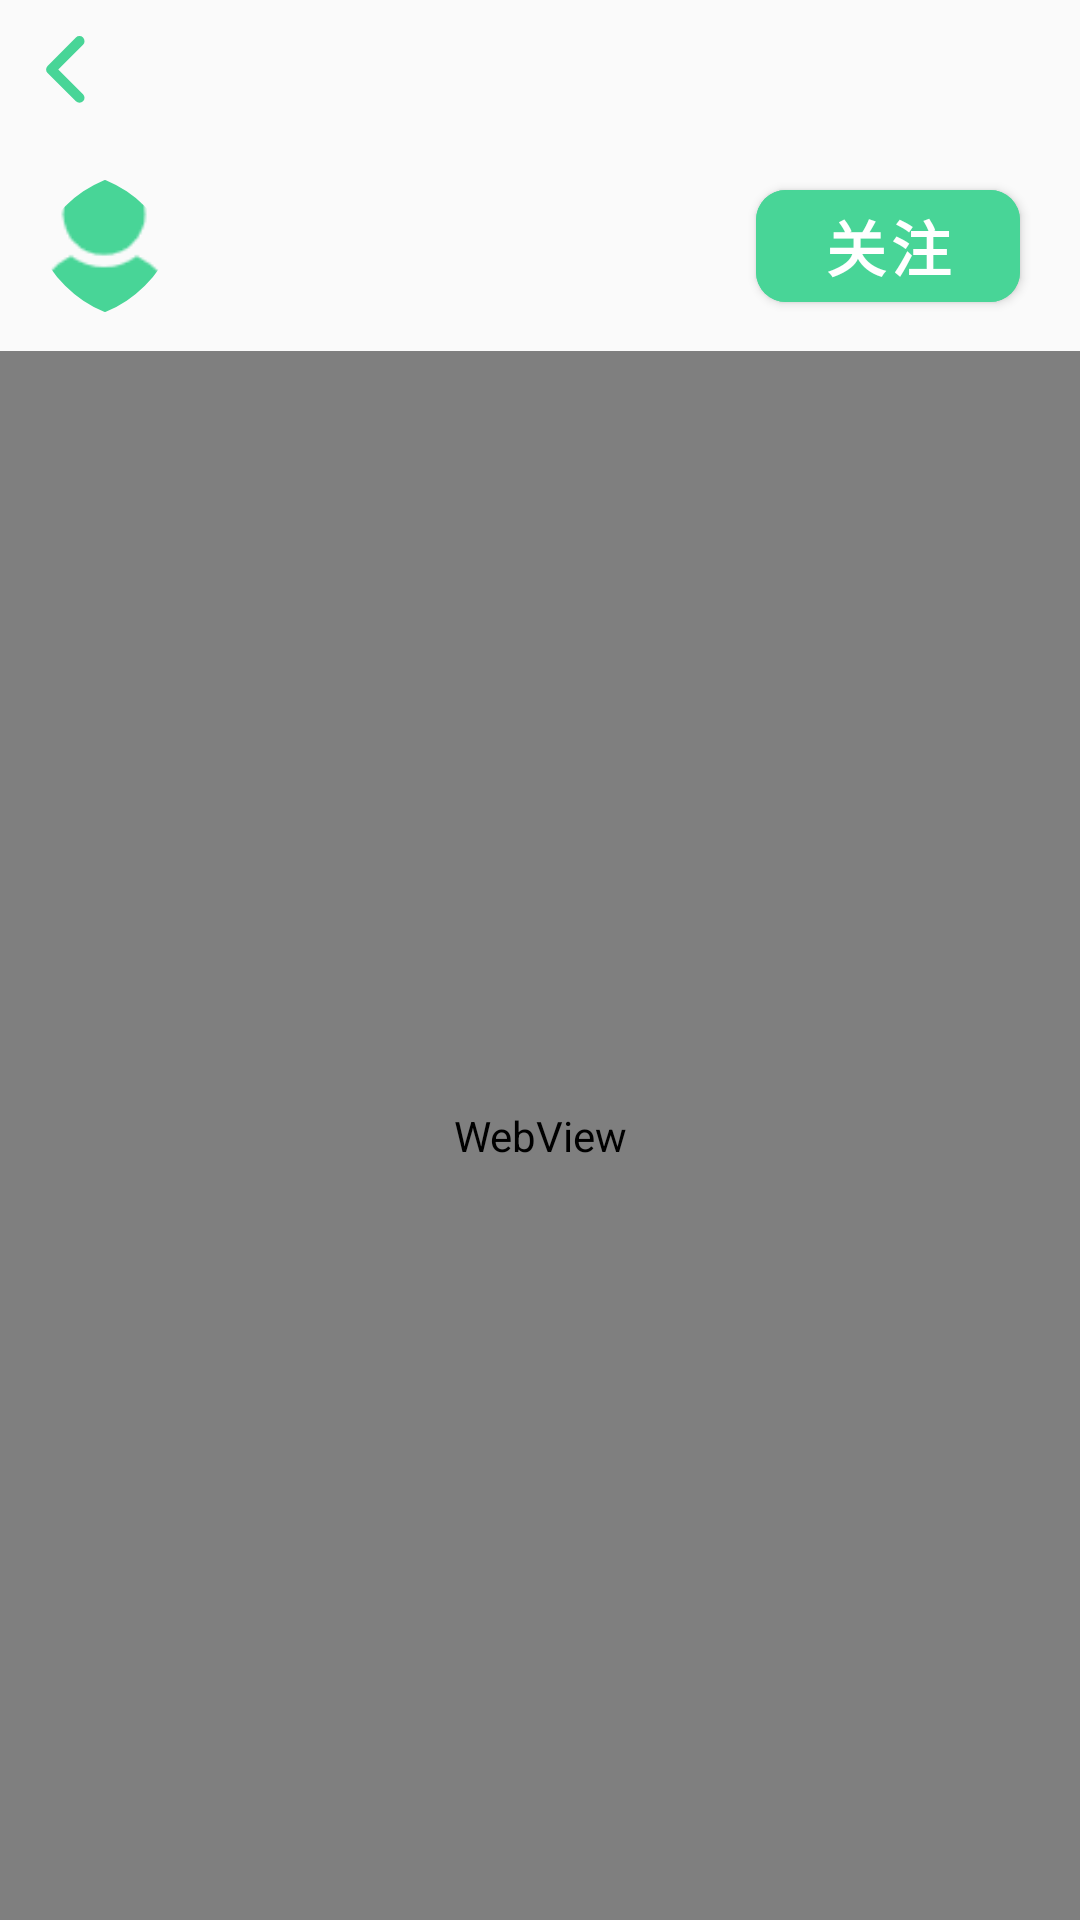

Where to tap for icons on this 1080px x 1920px app screen, as [x,y]:
back: [65,69]
head: [105,246]
